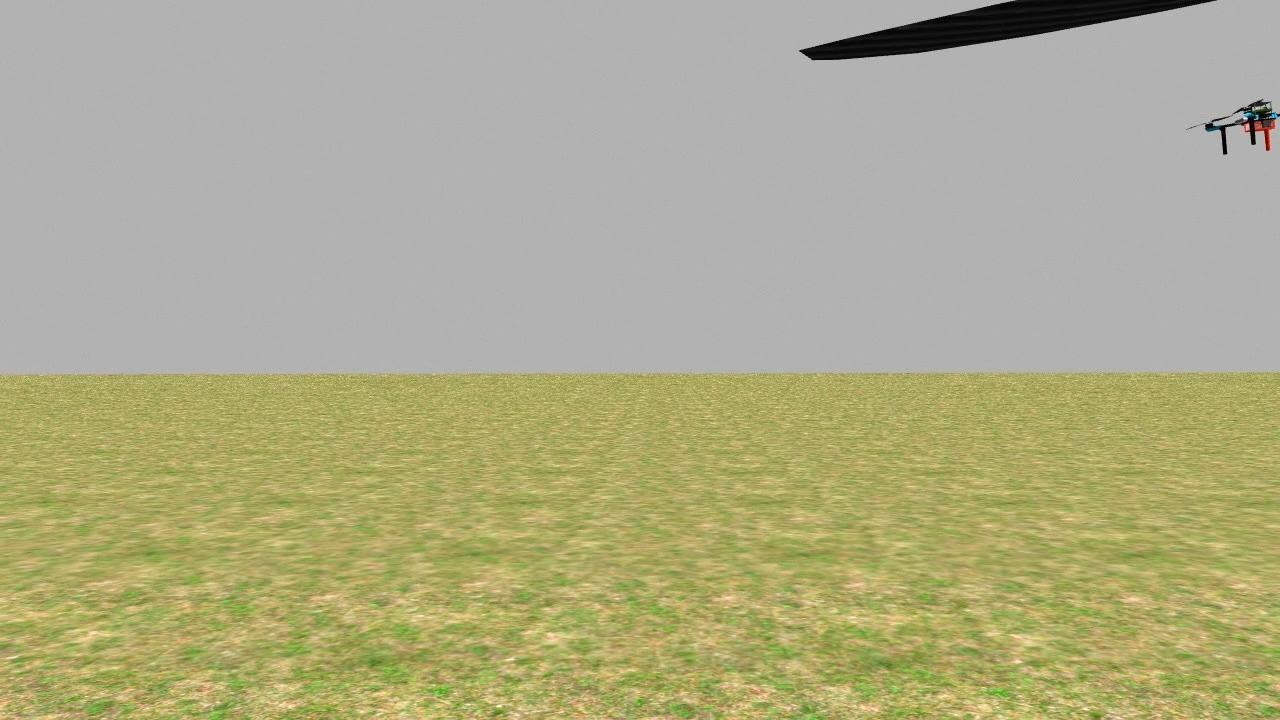UAV: (1153, 86, 1280, 170)
